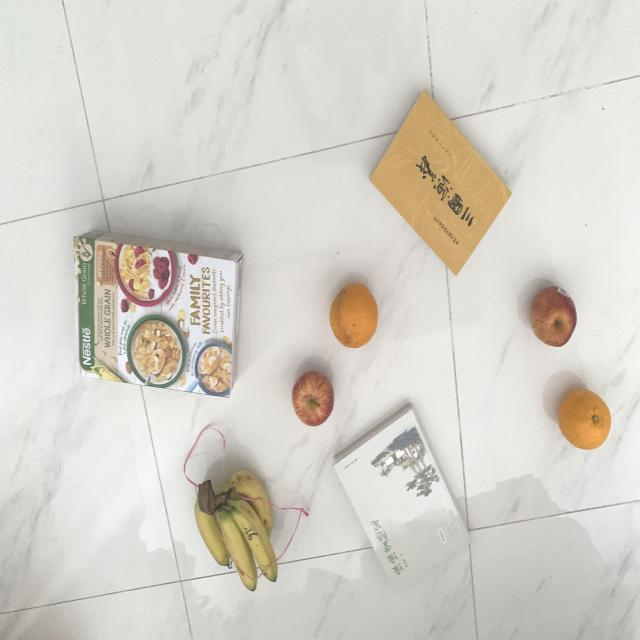apple: (521, 271, 587, 353), (283, 362, 339, 432)
banana: (189, 462, 287, 600)
orange: (551, 380, 615, 454), (323, 278, 383, 352)
